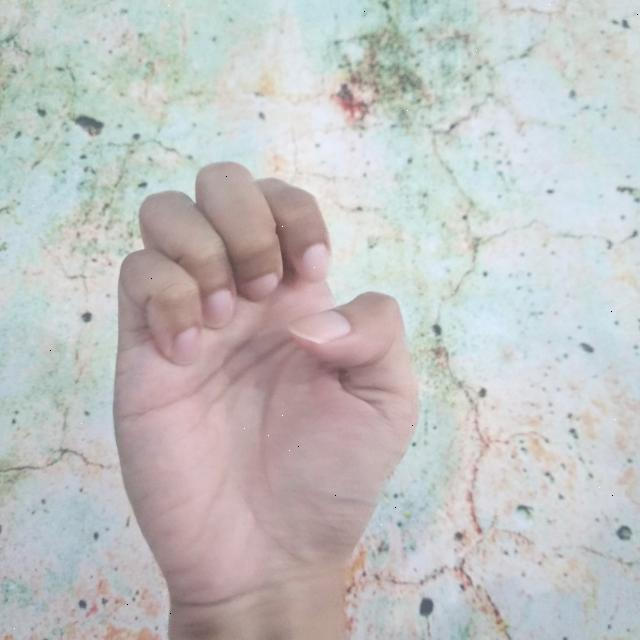E: (109, 154, 420, 640)
